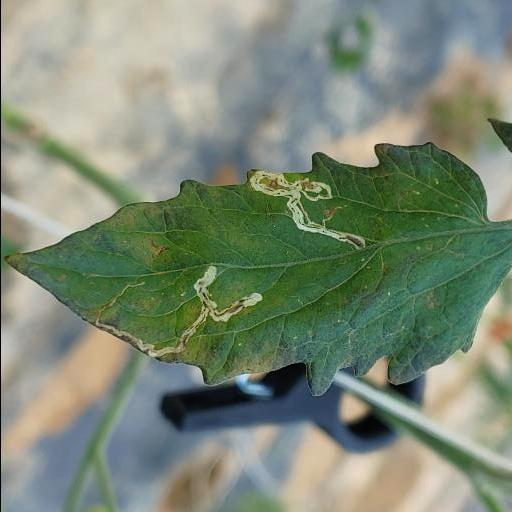Leaf Miner: (2, 142, 512, 399)
